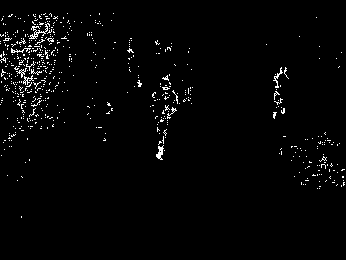person: (149, 75, 178, 161), (272, 63, 295, 122)
